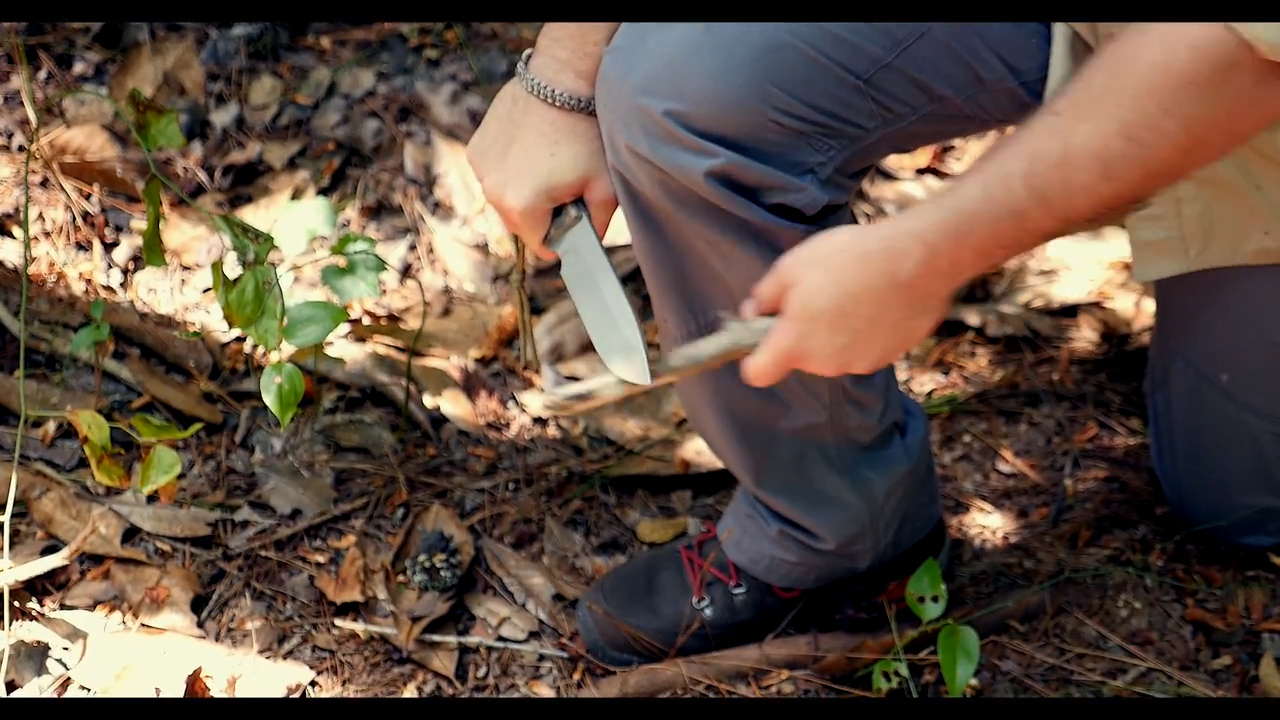knife: (462, 135, 661, 403)
